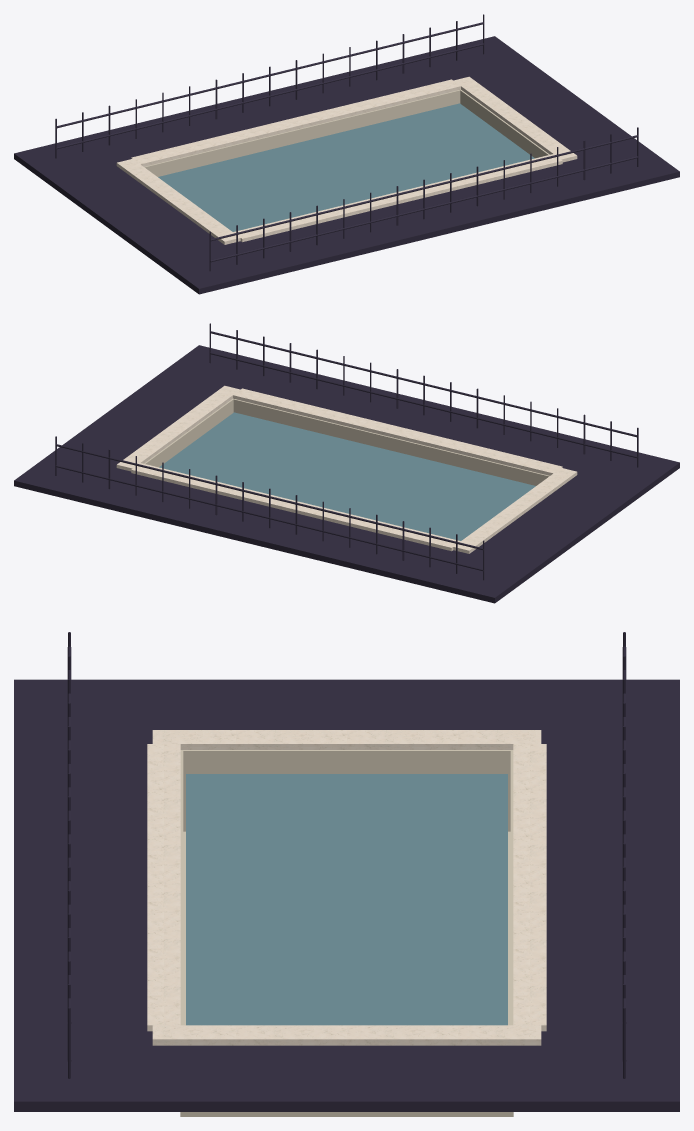
File: pool_edge.glb
3 views of the same model, one above another, from view 1: azimuth 30°, elevation 25°; view 2: azimuth 150°, elevation 25°; view 3: azimuth 270°, elevation 25° (orthographic). The views are drawn at different scales.
Parts seen in each view (by area): view 1: Runtime_pool_edge; view 2: Runtime_pool_edge; view 3: Runtime_pool_edge.
Part boxes in pixels (left/top/right/bottom): Runtime_pool_edge: left=14, top=14, right=679, bottom=294; Runtime_pool_edge: left=14, top=323, right=679, bottom=603; Runtime_pool_edge: left=14, top=632, right=679, bottom=1116.
Bounding box in the file's own units: 18 × 3.1 × 12.
4 materials, 1 textured.
